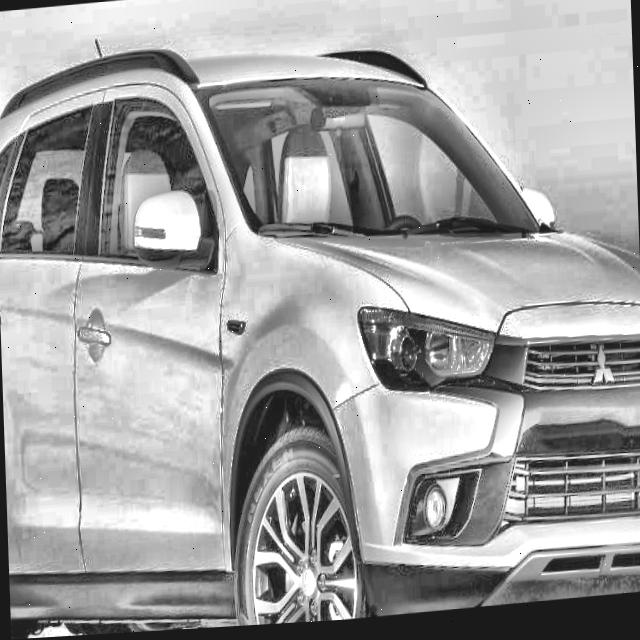light_vehicle: (0, 7, 640, 640)
